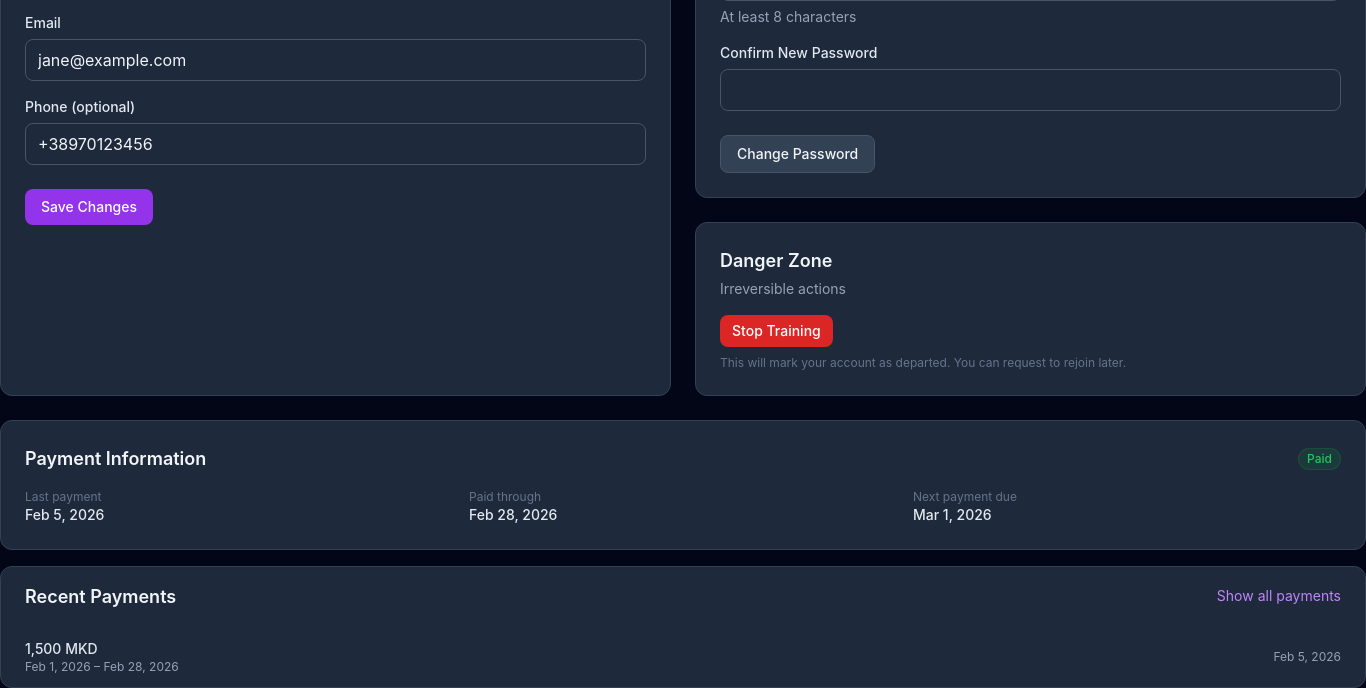
Test: ProfileClient › show all toggle › fetches all payments and toggles to 'Show recent' on click
(page scrolled)
Click the button "Show all payments" at (1279, 596), box [1217, 586, 1341, 606]
(page scrolled)
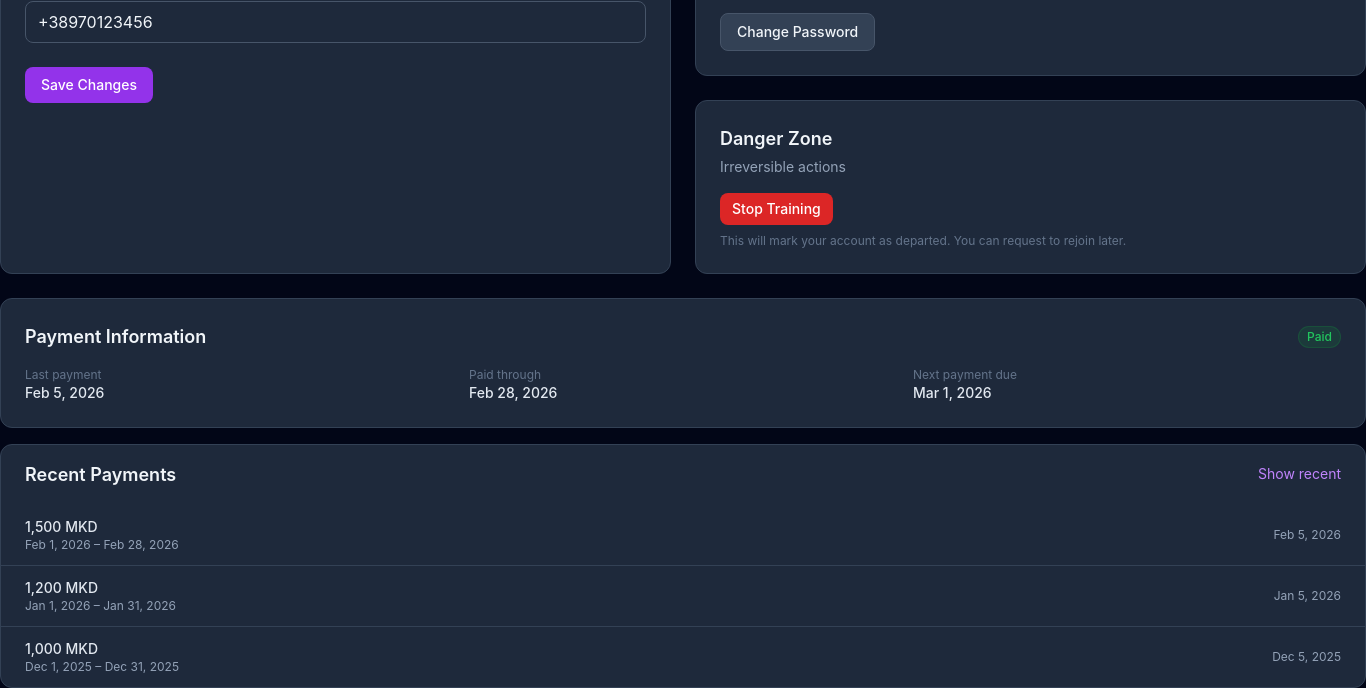
Now the button "Show recent" is shown, box [1258, 464, 1341, 484]
